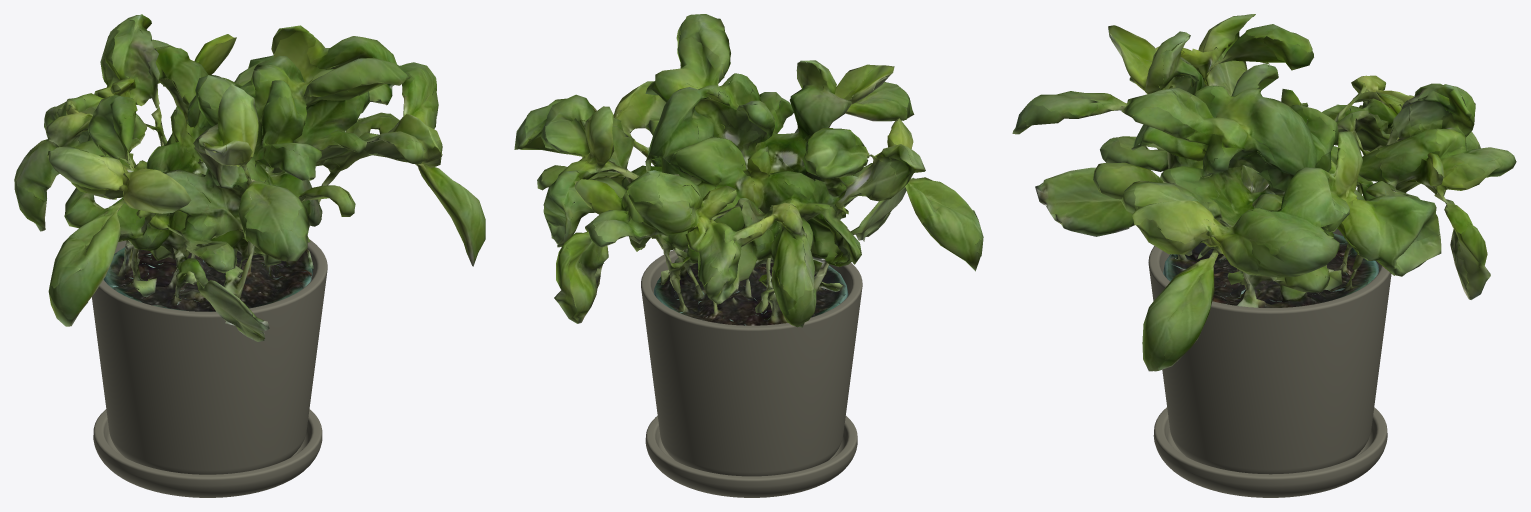
The model's file is potted-plant.glb.
3 views of the same model, side by side, from view 1: azimuth 30°, elevation 25°; view 2: azimuth 150°, elevation 25°; view 3: azimuth 270°, elevation 25° (orthographic). The views are drawn at different scales.
Visible parts, largest first — view 1: basil, pot, pot_1; view 2: basil, pot, pot_1; view 3: basil, pot, pot_1.
Boxes of the visible parts, bbox=[...] form: basil: bbox=[14, 14, 485, 341]; pot: bbox=[92, 239, 327, 474]; pot_1: bbox=[93, 409, 322, 497]; basil: bbox=[514, 14, 983, 327]; pot: bbox=[641, 250, 862, 476]; pot_1: bbox=[645, 416, 857, 497]; basil: bbox=[1012, 14, 1516, 371]; pot: bbox=[1148, 229, 1391, 474]; pot_1: bbox=[1153, 407, 1387, 497].
Bounding box in the file's own units: 0.4061 × 0.3647 × 0.396.
2 materials, 1 textured.
